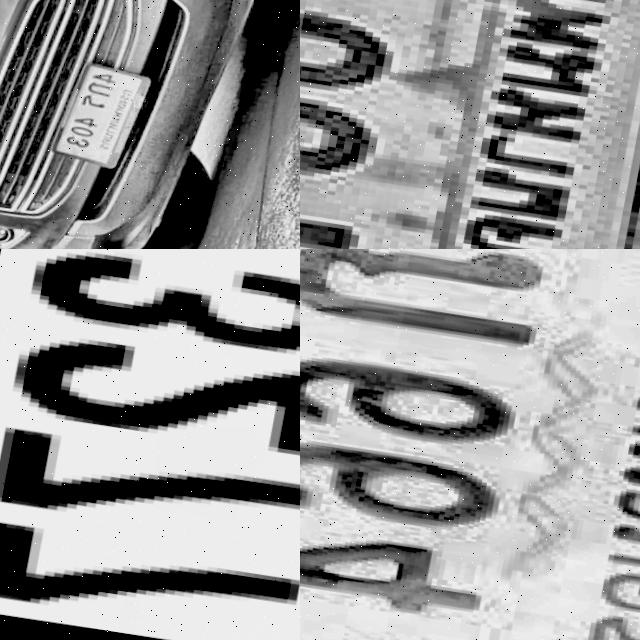license-plate: (300, 249, 640, 640), (0, 249, 300, 640), (300, 0, 640, 249), (47, 53, 162, 178)
